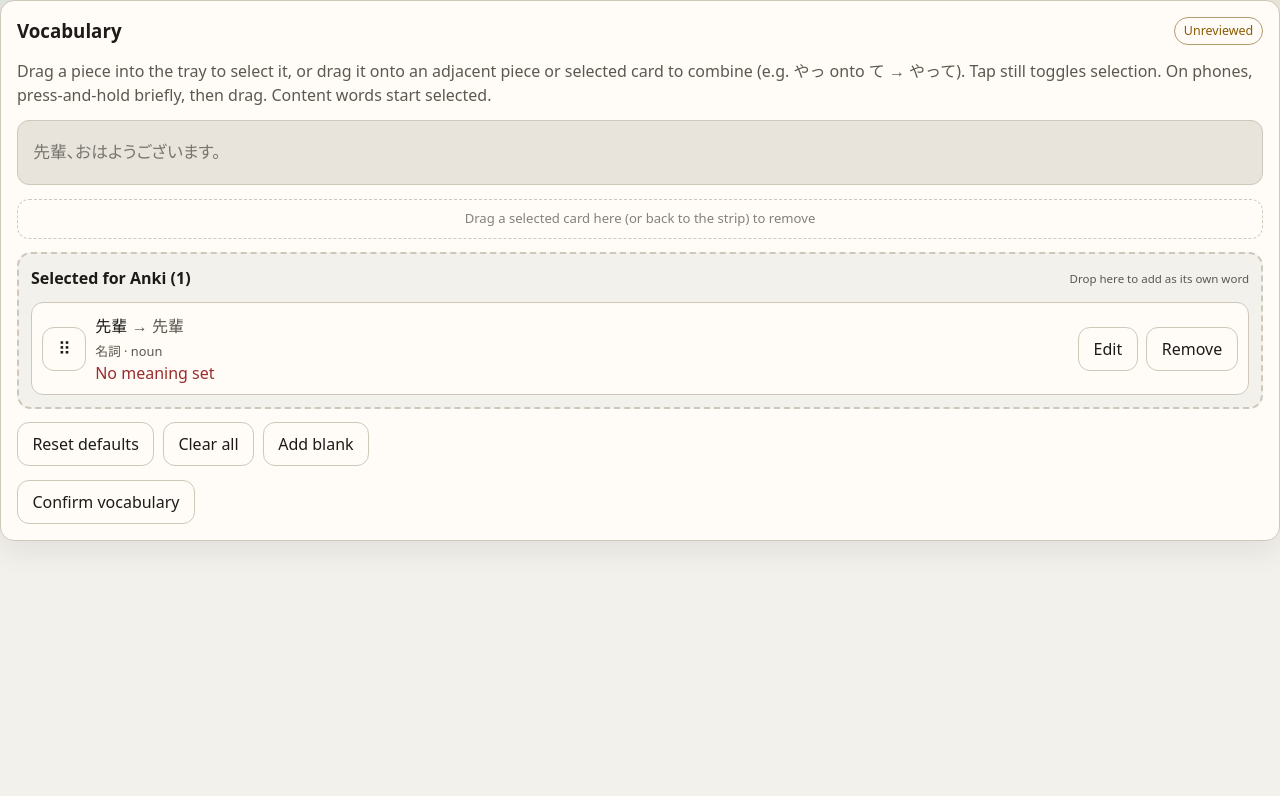
Scenario: VocabularyPicker "Suggest (AI)" › shows an inline message when the suggestion is unavailable
Click the button "Edit" at (1108, 349), box [1078,327,1138,371]
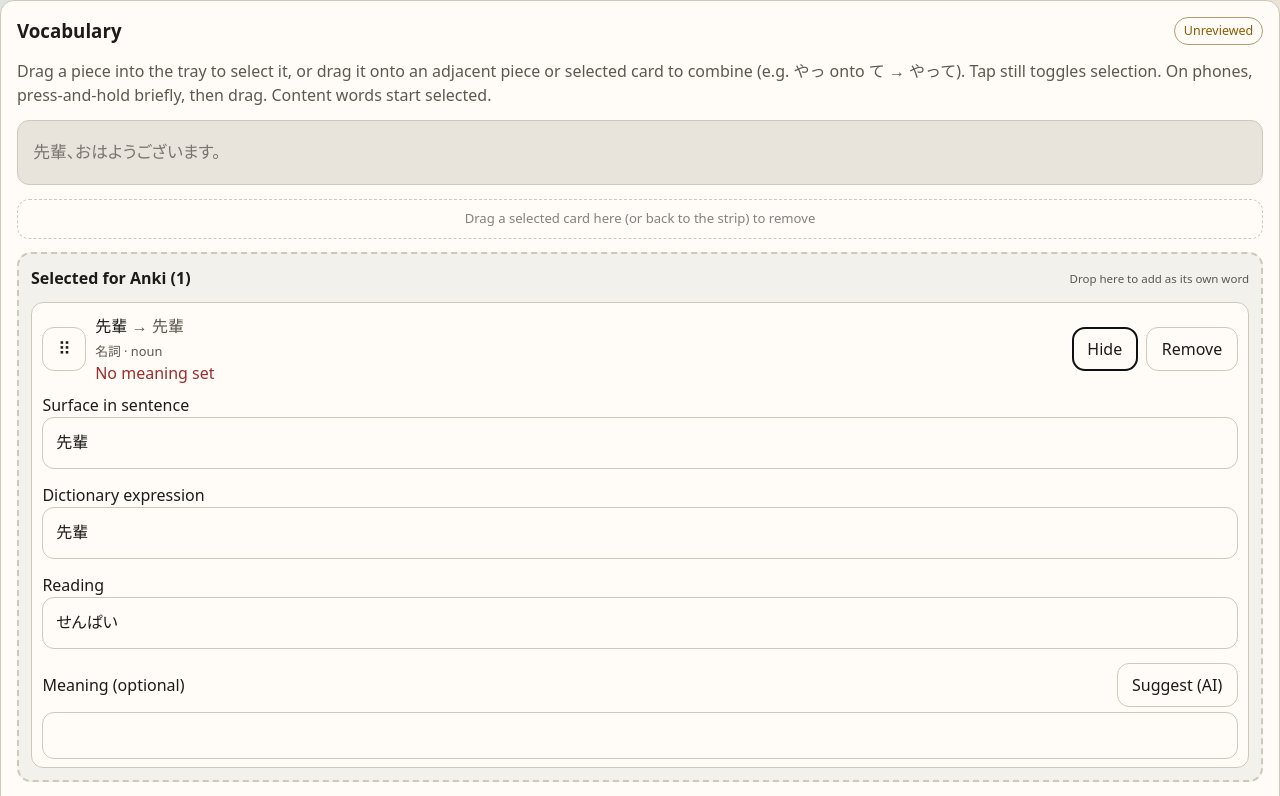
Click the button "Suggest (AI)" at (1177, 685), box [1117,663,1238,707]
(page scrolled)
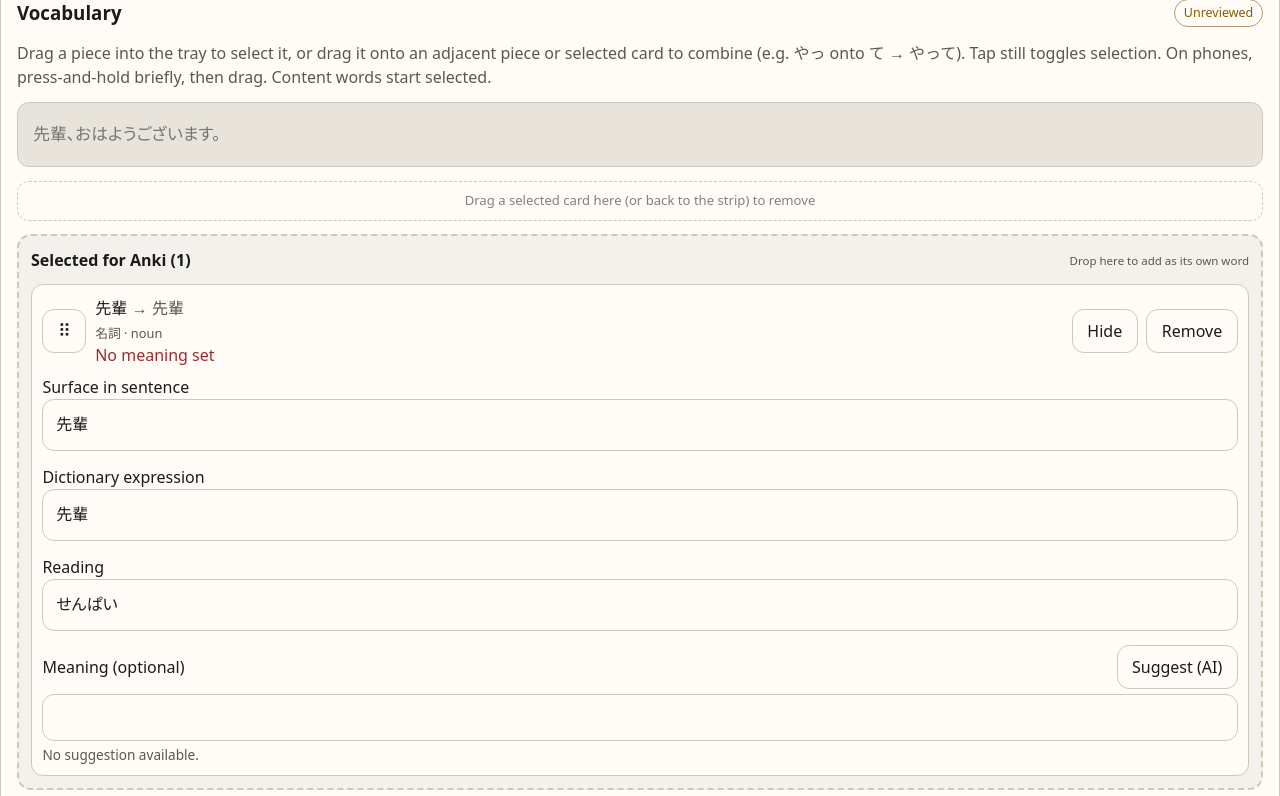
Check: the text "No suggestion available." is shown, box [42,745,199,764]
